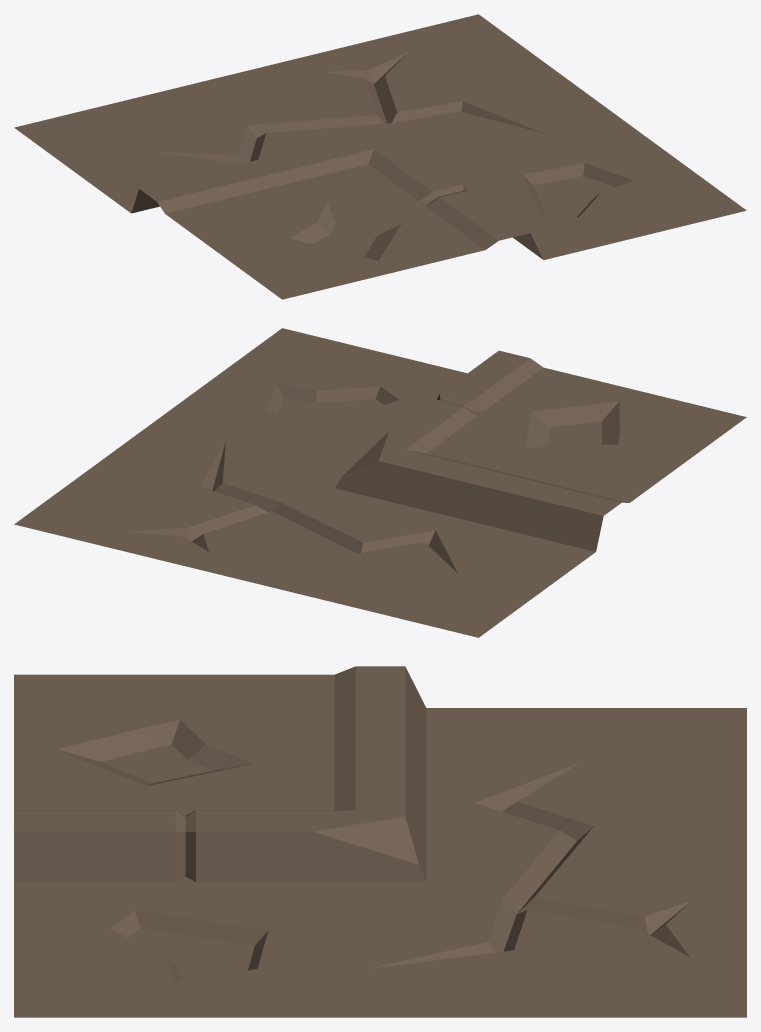
The model's file is LP_PostApoc_PavedOuterCornerSharp.fbx.
The picture shows the model from 3 angles, top to bottom: view 1: azimuth 30°, elevation 25°; view 2: azimuth 150°, elevation 25°; view 3: azimuth 270°, elevation 25°; orthographic projection. The views are drawn at different scales.
Parts seen in each view (by area): view 1: PavedOuterCornerSharp; view 2: PavedOuterCornerSharp; view 3: PavedOuterCornerSharp.
Boxes of the visible parts, x1,y1,x2,y2 form: PavedOuterCornerSharp: (14,14,746,299); PavedOuterCornerSharp: (14,328,746,637); PavedOuterCornerSharp: (14,666,746,1017).
Bounding box in the file's own units: 400 × 32.72 × 400.
